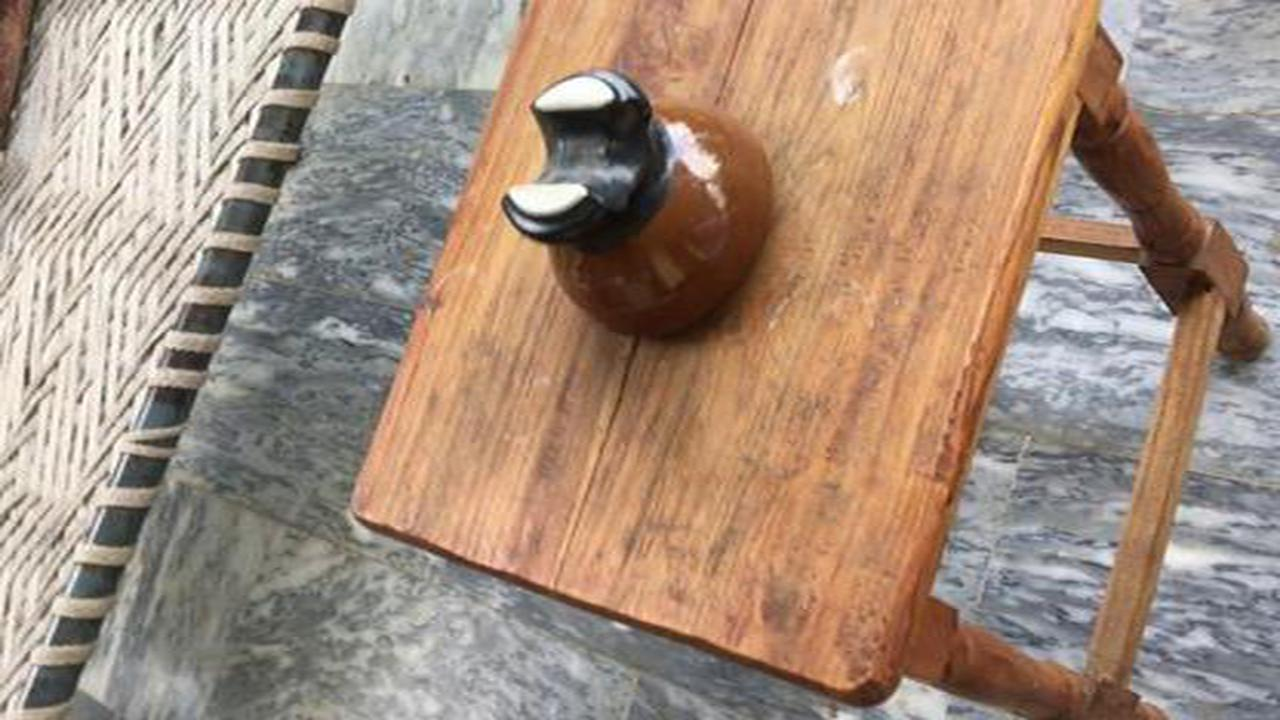insulator_pin: (493, 63, 791, 354)
